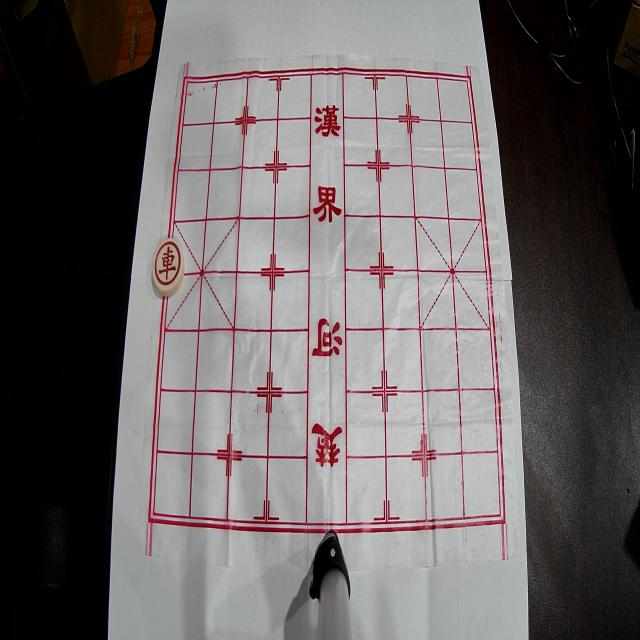red-chariot: (153, 238, 185, 297)
